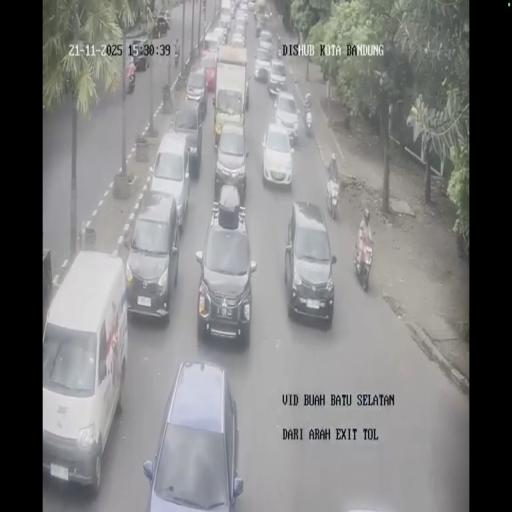car: (41, 253, 127, 489), (195, 196, 257, 345), (124, 189, 180, 319), (284, 201, 336, 325), (214, 124, 250, 202), (171, 102, 206, 172), (272, 89, 300, 145), (184, 67, 208, 109), (268, 57, 288, 95), (254, 42, 273, 82), (131, 38, 149, 64), (203, 32, 222, 56), (234, 9, 248, 34), (219, 10, 232, 34), (258, 28, 273, 48), (231, 31, 245, 48), (162, 10, 170, 25), (240, 0, 248, 13), (247, 0, 255, 11)
motorcycle: (354, 218, 372, 290), (325, 170, 340, 218), (303, 104, 313, 136), (264, 8, 272, 24), (255, 21, 262, 37), (174, 46, 179, 67), (277, 44, 283, 58)
